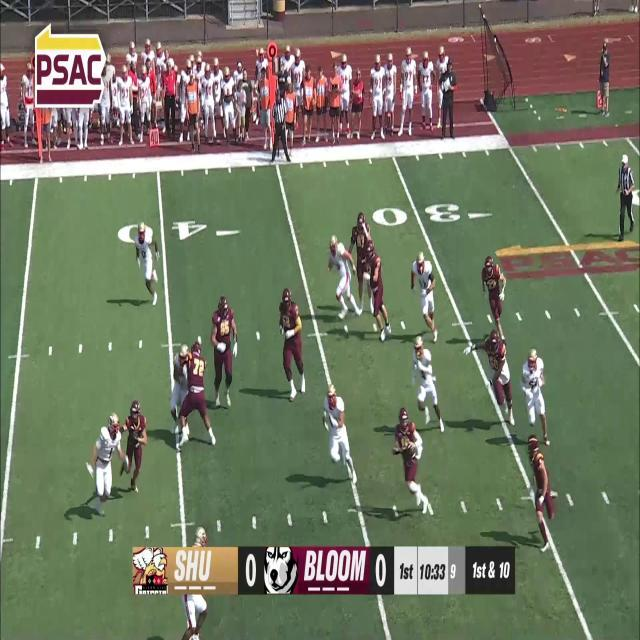football: (406, 441, 416, 462)
